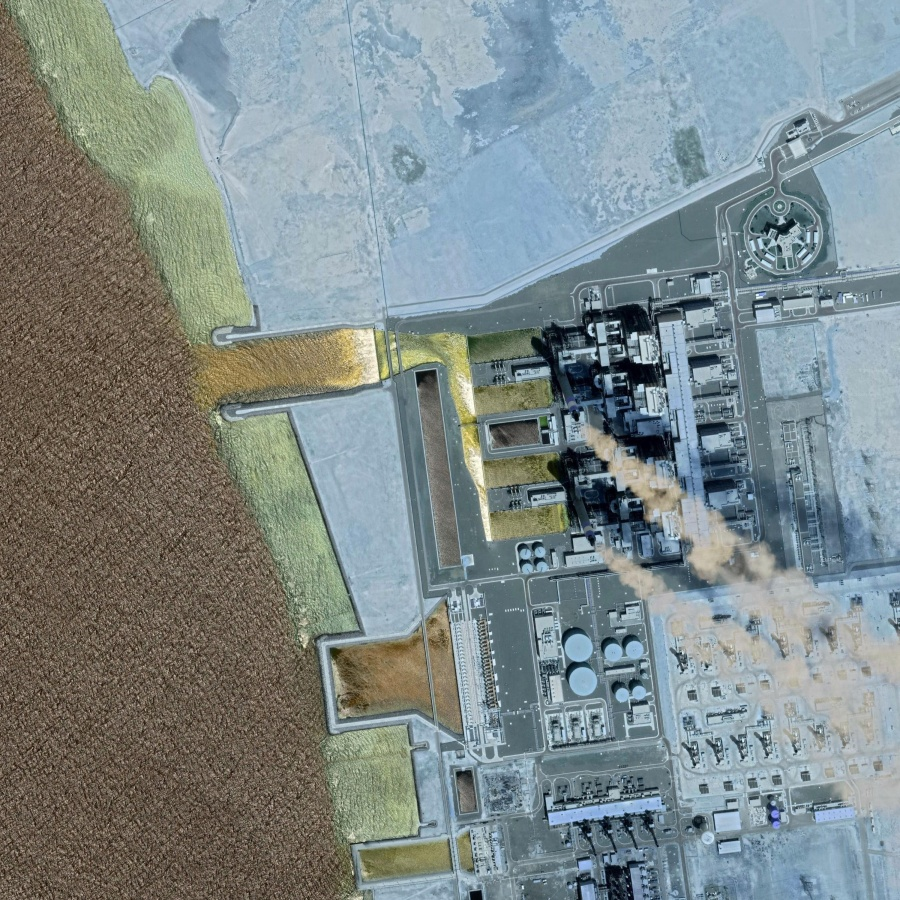PowerPlant: (452, 290, 895, 698)
